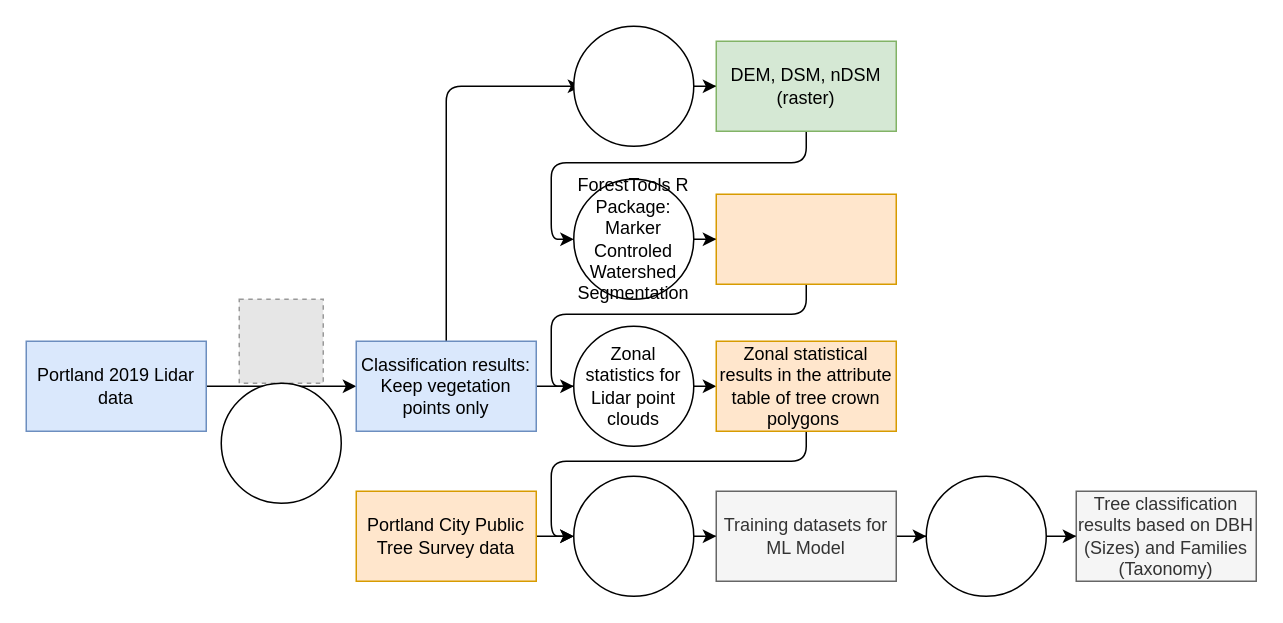
Image size: 1283x623. Some labels were removed from this diagram. Grey dashed boxes stand in for pictures. The centre of each missing label's shape, as x and y in pixels:
"LAStools: Normalization, Classification" goes at [280,442].
"ML development and prediction" goes at [985,535].
"Segmented Individual Tree Crowns (object-based polygon)" goes at [805,238].
"Spatial Join" goes at [633,535].
"Surface Generation" goes at [633,85].
